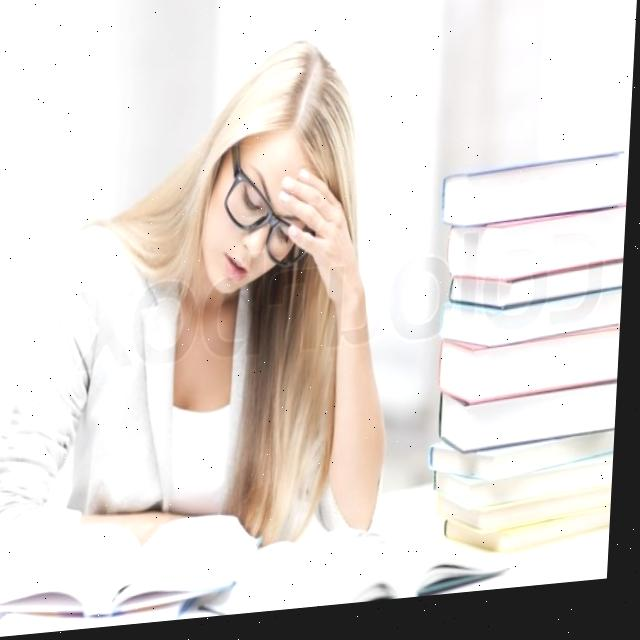studying-person: (0, 14, 530, 637)
